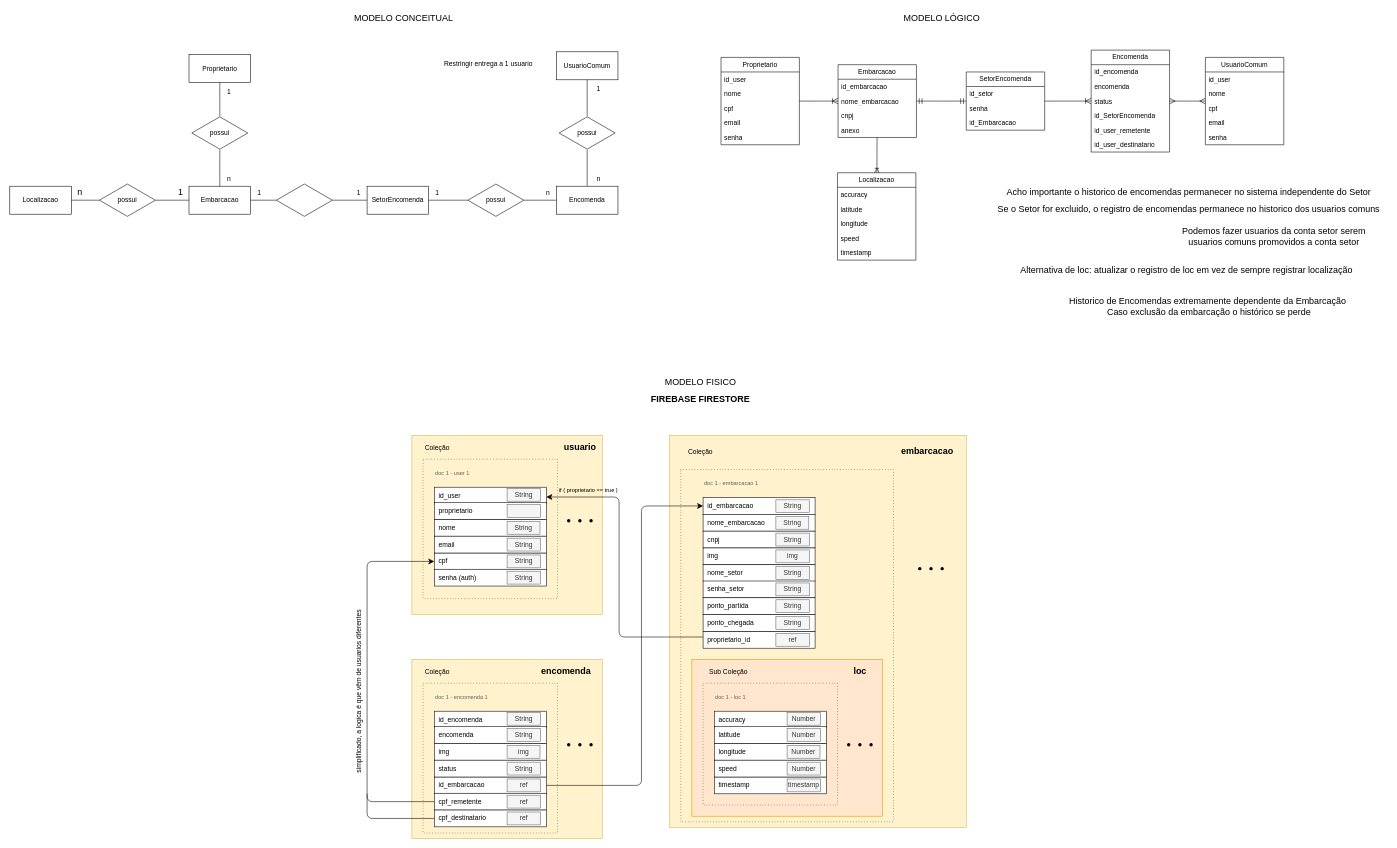
This 1397x848 diagram has some shape labels left out. Each missing label, with the centre of its shape:
"Boolean" belongs at [524,510].
"contem" belongs at [304,200].
